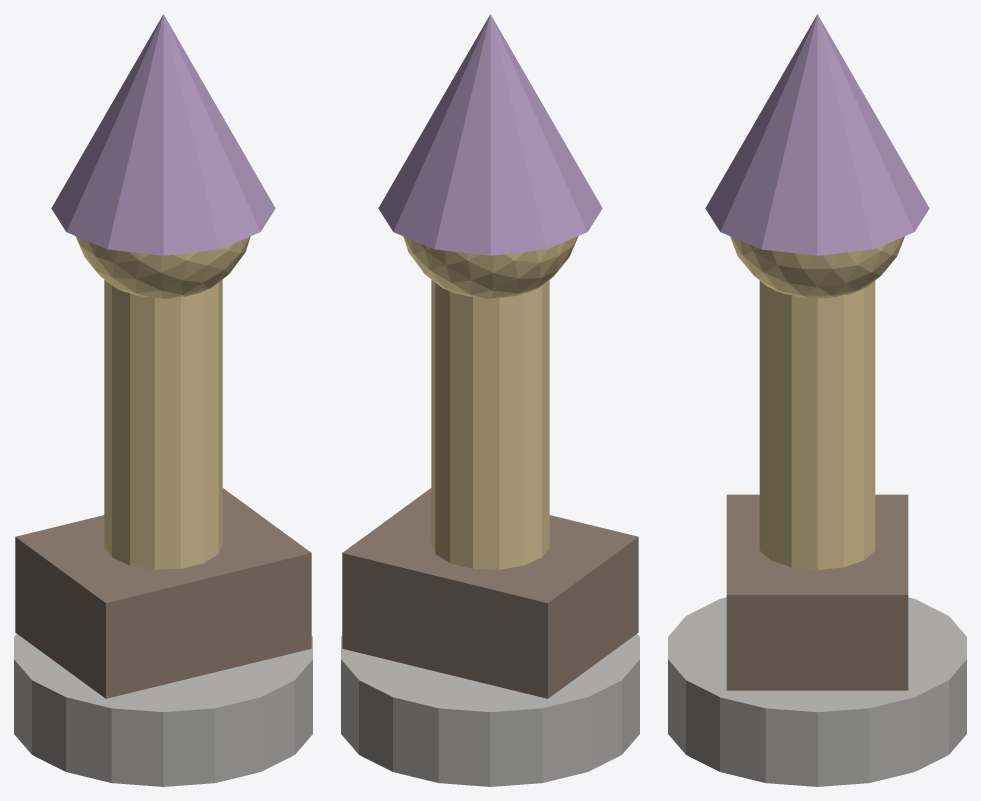
File: movie_prop_statue.glb
The picture shows the model from 3 angles, left to right: view 1: azimuth 30°, elevation 25°; view 2: azimuth 150°, elevation 25°; view 3: azimuth 270°, elevation 25°; orthographic projection.
Visible parts, largest first — view 1: part_01, part_02, part_00, part_04, part_03; view 2: part_01, part_02, part_00, part_04, part_03; view 3: part_00, part_02, part_04, part_01, part_03.
Part boxes in pixels (x1=…): part_01: x1=15, y1=488, x2=311, y2=698; part_02: x1=104, y1=280, x2=222, y2=569; part_00: x1=14, y1=634, x2=312, y2=786; part_04: x1=51, y1=14, x2=275, y2=255; part_03: x1=75, y1=236, x2=250, y2=298; part_01: x1=342, y1=488, x2=638, y2=698; part_02: x1=431, y1=280, x2=549, y2=569; part_00: x1=341, y1=634, x2=639, y2=786; part_04: x1=378, y1=14, x2=602, y2=255; part_03: x1=403, y1=236, x2=578, y2=298; part_00: x1=668, y1=597, x2=966, y2=786; part_02: x1=759, y1=281, x2=875, y2=569; part_04: x1=705, y1=14, x2=929, y2=255; part_01: x1=726, y1=494, x2=908, y2=690; part_03: x1=730, y1=236, x2=904, y2=298.
Bounding box in the file's own units: 0.92 × 2.37 × 0.906.
